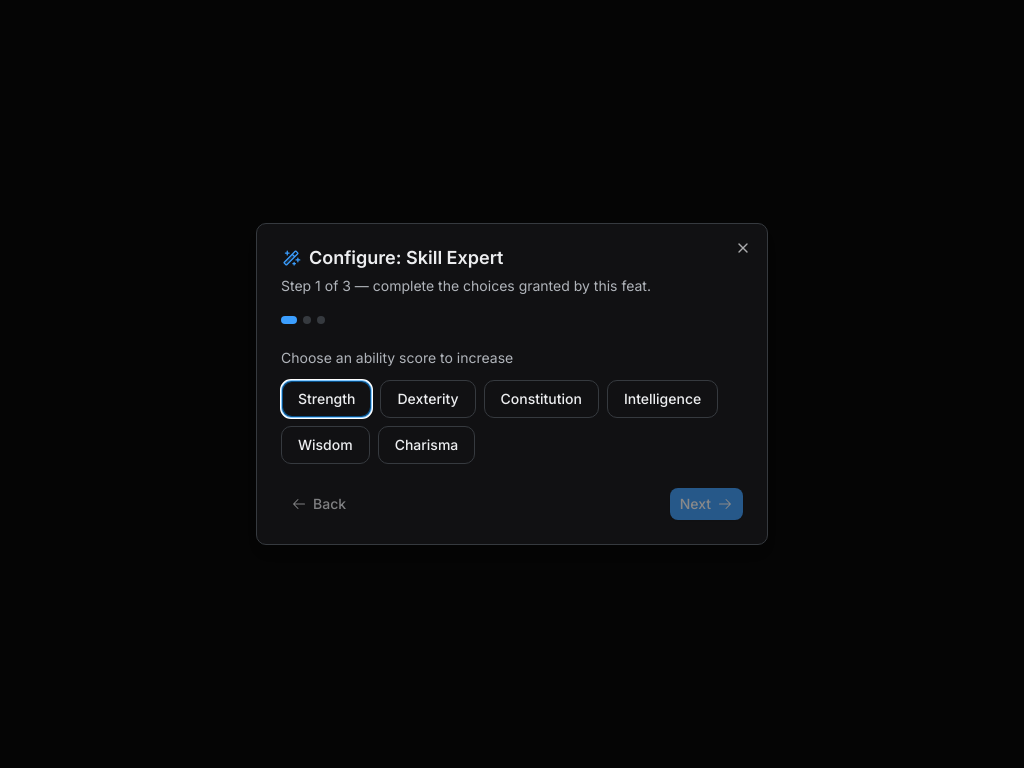
Scenario: TCE Skill Expert picker and confirmation reject another Expertise grant
Click the button "Dexterity".
click(428, 399)  # box x1=380 y1=380 x2=476 y2=418
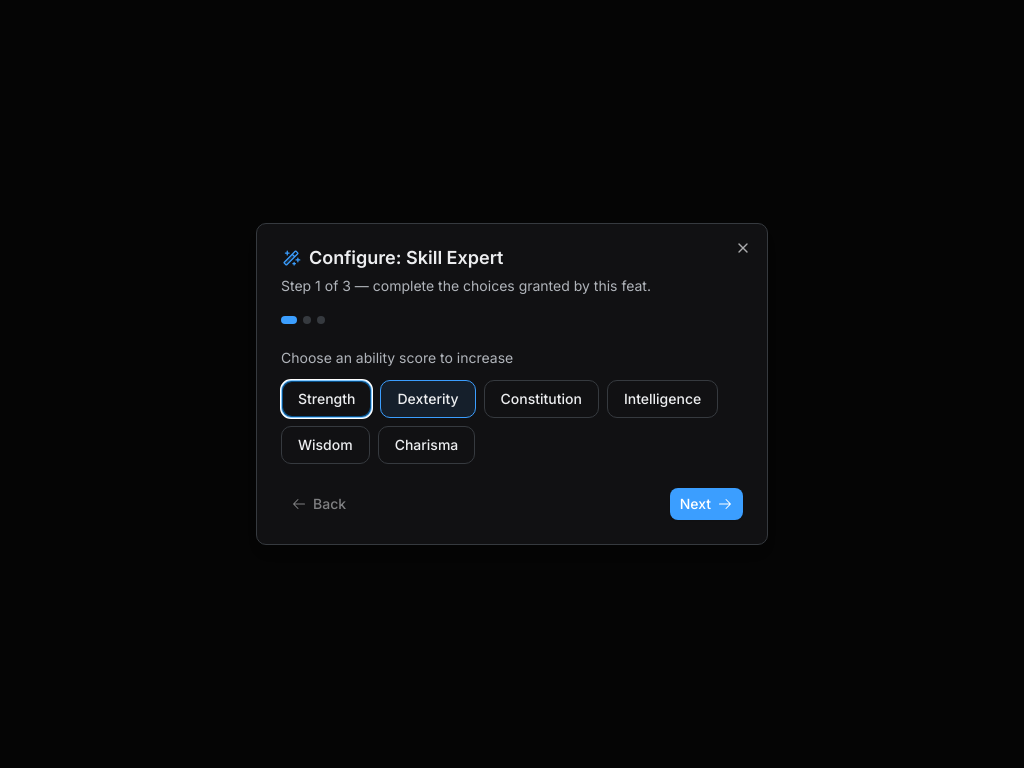
Click the button "Next".
click(706, 504)  # box x1=670 y1=488 x2=743 y2=520
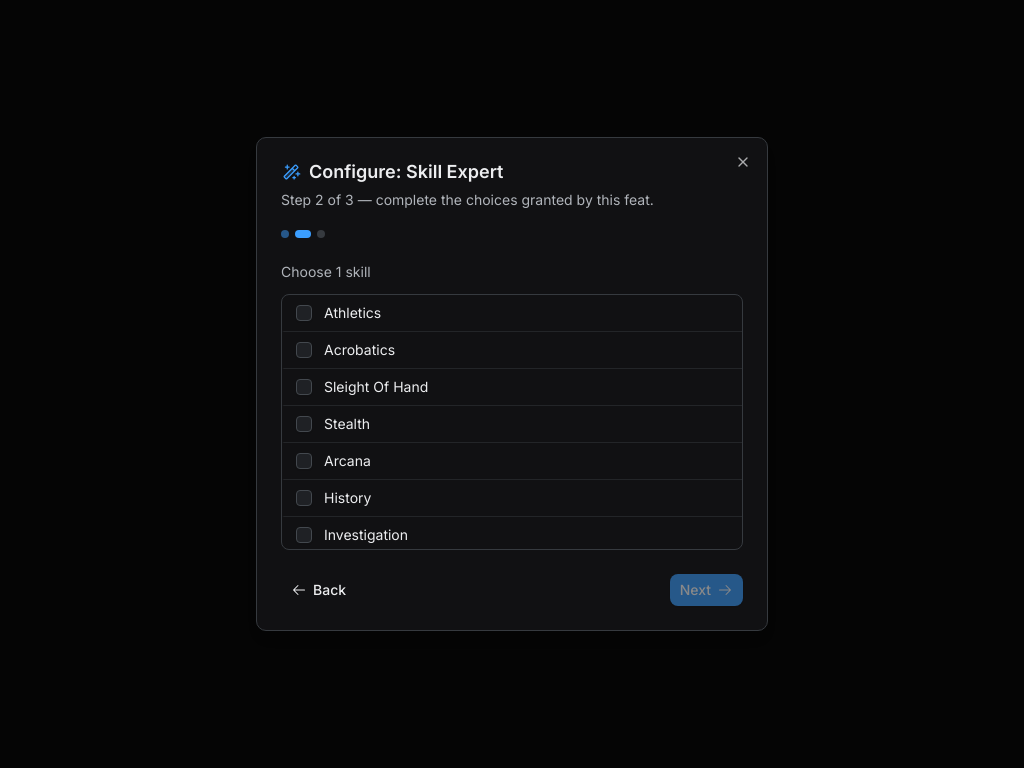
Click the checkbox named "acrobatics" next to "acrobatics".
click(304, 350)  # box x1=296 y1=342 x2=312 y2=358
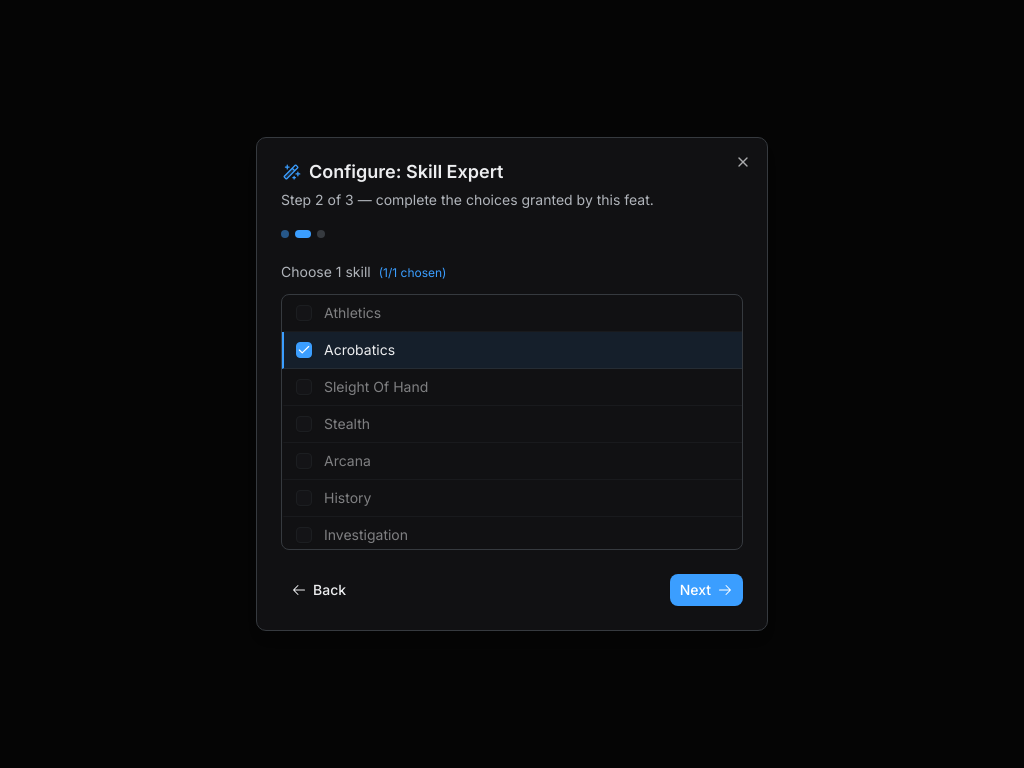
Click the button "Next".
click(706, 590)  # box x1=670 y1=574 x2=743 y2=606
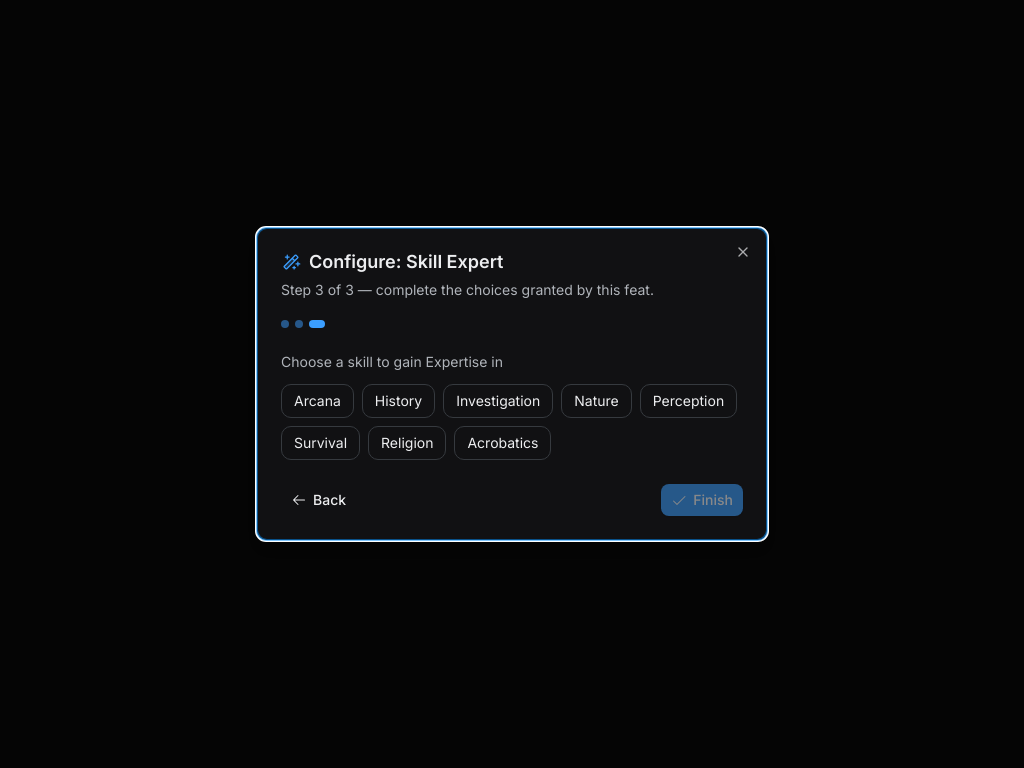
Check: the button "acrobatics" is shown, box x1=454 y1=426 x2=552 y2=460
Check: the text "stealth" is gone
